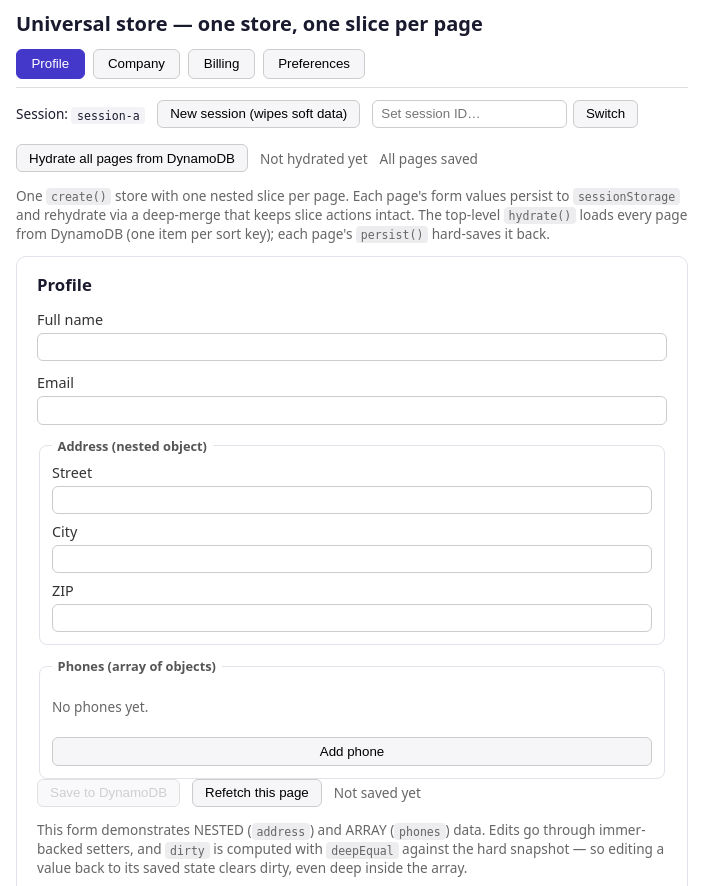
<App /> › reflects a dirty page in the header summary and the tab dot
The image size is (705, 886).
Click the button "Company" at (136, 64), box [93, 49, 180, 79]
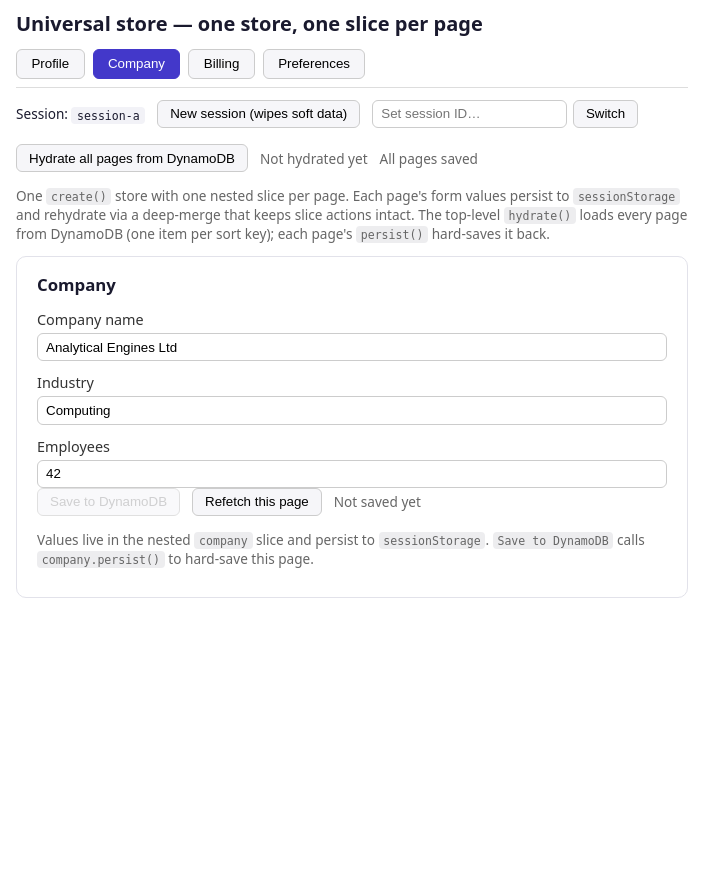
Replace the text in the field labelled "Company name" with "Babbage & Co" at (352, 347), box [37, 333, 667, 362]
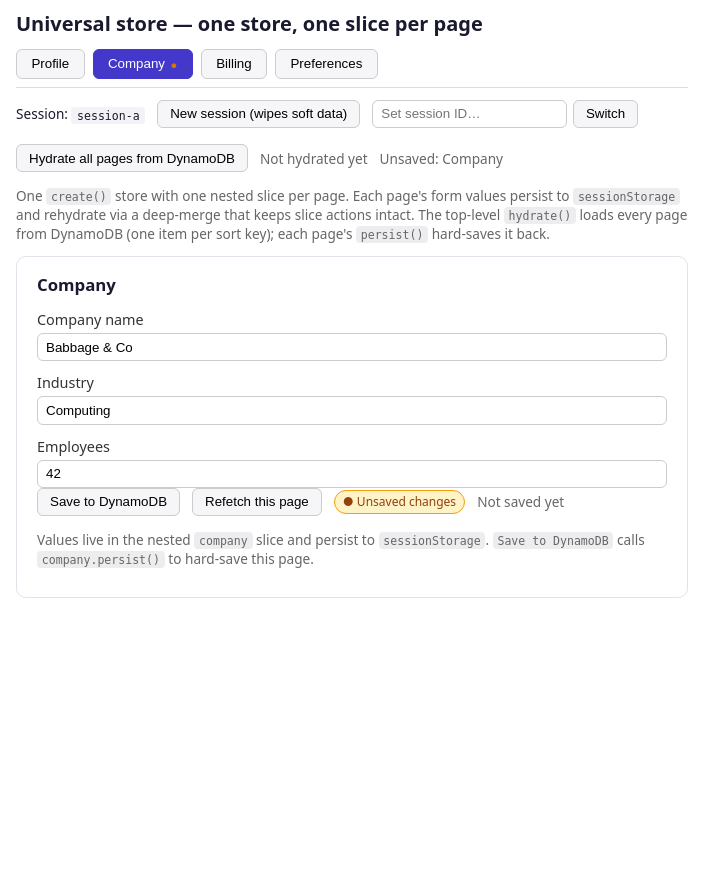
Result: the text "Unsaved: Company" is shown at [380, 149, 503, 168]
Result: the text "●" is shown at [171, 59, 177, 71]
